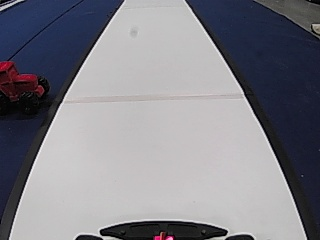tractor: (0, 58, 51, 117)
